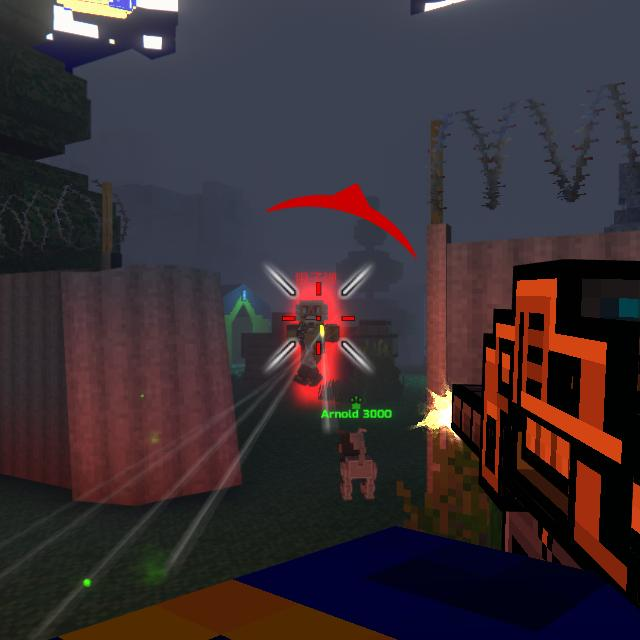Enemy: (286, 300, 340, 387)
